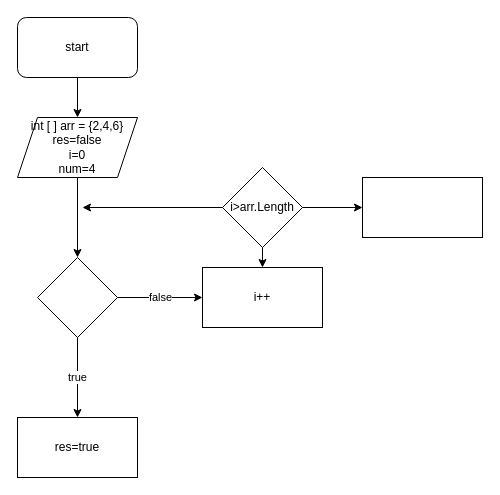
Image size: 500x495. Some labels were removed from this diagram. Here are the shapes that lost their labels. From the top down, the centre of each, then its label:
At point 422,207: "res=false".
At point 77,297: "arr[i]=num".
